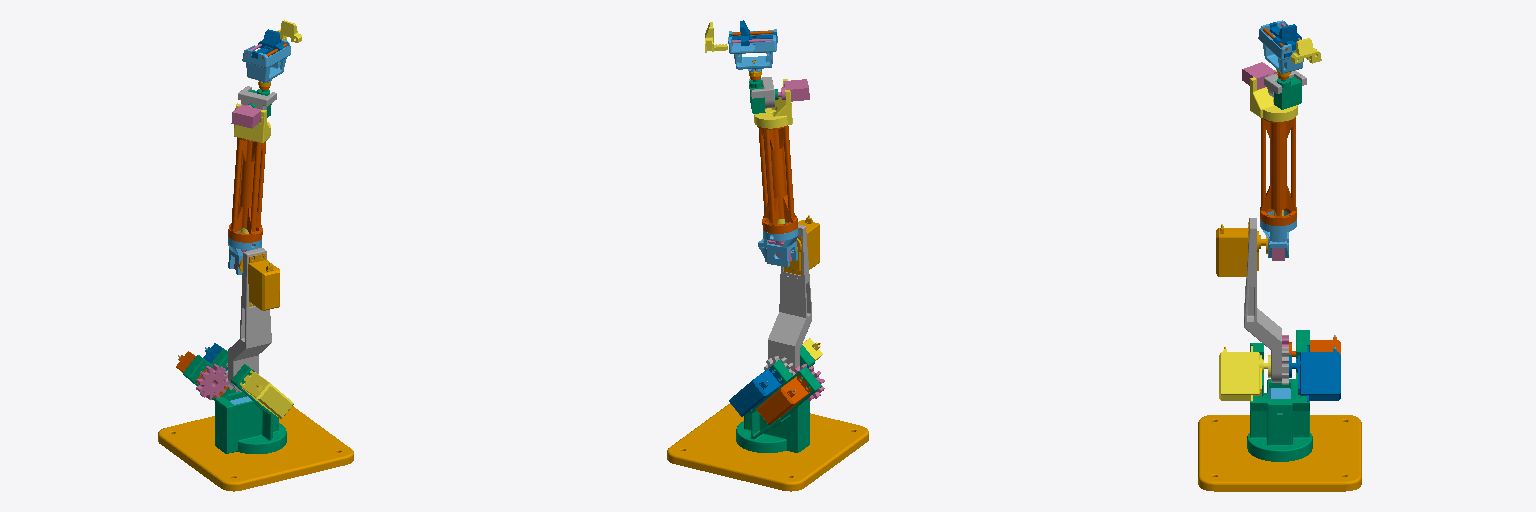
--- Facts derived from the render (not from the file) ---
Views: 3 orthographic renders of the robot side by side, from view 1: azimuth 30°, elevation 25°; view 2: azimuth 150°, elevation 25°; view 3: azimuth 270°, elevation 25°.
Robot: ArmAssembly — 31 links, 30 joints (6 revolute, 1 continuous, 2 prismatic, 21 fixed); root link base_link; default pose: joints at zero except 2 at the middle of their limits (ARM.1_Slider 17 = -0.0255, ARM.1_Slider 18 = -0.023).
Visible links, largest first — view 1: base_link, ARM.1joint_one_body1, ARM.1assembly_21joint_three_body1, ARM.1joint_two_body1, ARM.1mg996r1, ARM.1mg996r4, ARM.1gripper_body1, ARM.1DEFAULT_201, ARM.1assembly_21joint_four_body1, ARM.1small_servo_base3; view 2: base_link, ARM.1joint_one_body1, ARM.1joint_two_body1, ARM.1assembly_21joint_three_body1, ARM.1mg996r5, ARM.1mg996r2, ARM.1gripper_body1, ARM.1assembly_21joint_three_coupler1, ARM.1mg996r1, ARM.1assembly_21joint_four_body1; view 3: base_link, ARM.1joint_one_body1, ARM.1assembly_21joint_three_body1, ARM.1joint_two_body1, ARM.1mg996r4, ARM.1mg996r5, ARM.1mg996r1, ARM.1assembly_21joint_four_body1, ARM.1gripper_body1, ARM.1assembly_21joint_three_coupler1, ARM.1small_servo_base2.
Boxes of the visible links, x1=… form: base_link: x1=158, y1=406, x2=353, y2=491; ARM.1joint_one_body1: x1=183, y1=348, x2=286, y2=453; ARM.1assembly_21joint_three_body1: x1=228, y1=137, x2=265, y2=242; ARM.1joint_two_body1: x1=224, y1=248, x2=271, y2=392; ARM.1mg996r1: x1=239, y1=253, x2=279, y2=310; ARM.1mg996r4: x1=240, y1=370, x2=293, y2=418; ARM.1gripper_body1: x1=242, y1=40, x2=290, y2=82; ARM.1DEFAULT_201: x1=196, y1=364, x2=228, y2=399; ARM.1assembly_21joint_four_body1: x1=234, y1=103, x2=270, y2=233; ARM.1small_servo_base3: x1=231, y1=105, x2=260, y2=128; base_link: x1=667, y1=404, x2=868, y2=491; ARM.1joint_one_body1: x1=736, y1=345, x2=821, y2=452; ARM.1joint_two_body1: x1=764, y1=224, x2=811, y2=387; ARM.1assembly_21joint_three_body1: x1=757, y1=125, x2=797, y2=233; ARM.1mg996r5: x1=729, y1=366, x2=783, y2=416; ARM.1mg996r2: x1=756, y1=375, x2=811, y2=424; ARM.1gripper_body1: x1=728, y1=29, x2=777, y2=72; ARM.1assembly_21joint_three_coupler1: x1=758, y1=222, x2=798, y2=266; ARM.1mg996r1: x1=784, y1=217, x2=819, y2=275; ARM.1assembly_21joint_four_body1: x1=754, y1=79, x2=792, y2=224; base_link: x1=1198, y1=415, x2=1361, y2=491; ARM.1joint_one_body1: x1=1247, y1=330, x2=1312, y2=461; ARM.1assembly_21joint_three_body1: x1=1260, y1=117, x2=1296, y2=225; ARM.1joint_two_body1: x1=1244, y1=218, x2=1288, y2=384; ARM.1mg996r4: x1=1219, y1=346, x2=1270, y2=401; ARM.1mg996r5: x1=1289, y1=346, x2=1340, y2=401; ARM.1mg996r1: x1=1216, y1=222, x2=1267, y2=276; ARM.1assembly_21joint_four_body1: x1=1250, y1=70, x2=1297, y2=215; ARM.1gripper_body1: x1=1258, y1=20, x2=1303, y2=73; ARM.1assembly_21joint_three_coupler1: x1=1260, y1=211, x2=1296, y2=257; ARM.1small_servo_base2: x1=1274, y1=77, x2=1301, y2=109.
Bounding box of the posed robot: 0.15 × 0.15 × 0.4481 m (x, y, z).
31 mesh visuals loaded from 31 distinct referenced files (31 binary STL).

URDF robot description (ArmAssembly):
<?xml version="1.0" ?>
<robot name="ArmAssembly">

<material name="silver">
  <color rgba="0.700 0.700 0.700 1.000"/>
</material>

<link name="base_link">
  <inertial>
    <origin xyz="0.0 0.0 0.0" rpy="0 0 0"/>
    <mass value="0.0"/>
    <inertia ixx="0.0" iyy="0.0" izz="0.0" ixy="0.0" iyz="0.0" ixz="0.0"/>
  </inertial>
  <visual>
    <origin xyz="0 0 0" rpy="0 0 0"/>
    <geometry>
      <mesh filename="meshes/base_link.stl" scale="0.001 0.001 0.001"/>
    </geometry>
    <material name="silver"/>
    <material/>
  </visual>
  <collision>
    <origin xyz="0 0 0" rpy="0 0 0"/>
    <geometry>
      <mesh filename="meshes/base_link.stl" scale="0.001 0.001 0.001"/>
    </geometry>
  </collision>
</link>

<link name="ARM.1base_servo1">
  <inertial>
    <origin xyz="-9e-06 -9e-06 -0.009" rpy="0 0 0"/>
    <mass value="0.0"/>
    <inertia ixx="0.0" iyy="0.0" izz="0.0" ixy="0.0" iyz="0.0" ixz="0.0"/>
  </inertial>
  <visual>
    <origin xyz="-9e-06 -9e-06 -0.009" rpy="0 0 0"/>
    <geometry>
      <mesh filename="meshes/ARM.1base_servo1.stl" scale="0.001 0.001 0.001"/>
    </geometry>
    <material name="silver"/>
    <material/>
  </visual>
  <collision>
    <origin xyz="-9e-06 -9e-06 -0.009" rpy="0 0 0"/>
    <geometry>
      <mesh filename="meshes/ARM.1base_servo1.stl" scale="0.001 0.001 0.001"/>
    </geometry>
  </collision>
</link>

<link name="ARM.1joint_one_body1">
  <inertial>
    <origin xyz="0.034141 -9e-06 -0.0276" rpy="0 0 0"/>
    <mass value="0.0"/>
    <inertia ixx="0.0" iyy="0.0" izz="0.0" ixy="0.0" iyz="0.0" ixz="0.0"/>
  </inertial>
  <visual>
    <origin xyz="0.034141 -9e-06 -0.0276" rpy="0 0 0"/>
    <geometry>
      <mesh filename="meshes/ARM.1joint_one_body1.stl" scale="0.001 0.001 0.001"/>
    </geometry>
    <material name="silver"/>
    <material/>
  </visual>
  <collision>
    <origin xyz="0.034141 -9e-06 -0.0276" rpy="0 0 0"/>
    <geometry>
      <mesh filename="meshes/ARM.1joint_one_body1.stl" scale="0.001 0.001 0.001"/>
    </geometry>
  </collision>
</link>

<link name="ARM.1mg996r4">
  <inertial>
    <origin xyz="0.031872 0.024582 -0.133674" rpy="0 0 0"/>
    <mass value="0.0"/>
    <inertia ixx="0.0" iyy="0.0" izz="0.0" ixy="0.0" iyz="0.0" ixz="0.0"/>
  </inertial>
  <visual>
    <origin xyz="0.031872 0.024582 -0.133674" rpy="0 0 0"/>
    <geometry>
      <mesh filename="meshes/ARM.1mg996r4.stl" scale="0.001 0.001 0.001"/>
    </geometry>
    <material name="silver"/>
    <material/>
  </visual>
  <collision>
    <origin xyz="0.031872 0.024582 -0.133674" rpy="0 0 0"/>
    <geometry>
      <mesh filename="meshes/ARM.1mg996r4.stl" scale="0.001 0.001 0.001"/>
    </geometry>
  </collision>
</link>

<link name="ARM.1mg996r5">
  <inertial>
    <origin xyz="0.031872 -0.024618 -0.133674" rpy="0 0 0"/>
    <mass value="0.0"/>
    <inertia ixx="0.0" iyy="0.0" izz="0.0" ixy="0.0" iyz="0.0" ixz="0.0"/>
  </inertial>
  <visual>
    <origin xyz="0.031872 -0.024618 -0.133674" rpy="0 0 0"/>
    <geometry>
      <mesh filename="meshes/ARM.1mg996r5.stl" scale="0.001 0.001 0.001"/>
    </geometry>
    <material name="silver"/>
    <material/>
  </visual>
  <collision>
    <origin xyz="0.031872 -0.024618 -0.133674" rpy="0 0 0"/>
    <geometry>
      <mesh filename="meshes/ARM.1mg996r5.stl" scale="0.001 0.001 0.001"/>
    </geometry>
  </collision>
</link>

<link name="ARM.1mg996r2">
  <inertial>
    <origin xyz="0.070257 -0.024618 -0.124589" rpy="0 0 0"/>
    <mass value="0.0"/>
    <inertia ixx="0.0" iyy="0.0" izz="0.0" ixy="0.0" iyz="0.0" ixz="0.0"/>
  </inertial>
  <visual>
    <origin xyz="0.070257 -0.024618 -0.124589" rpy="0 0 0"/>
    <geometry>
      <mesh filename="meshes/ARM.1mg996r2.stl" scale="0.001 0.001 0.001"/>
    </geometry>
    <material name="silver"/>
    <material/>
  </visual>
  <collision>
    <origin xyz="0.070257 -0.024618 -0.124589" rpy="0 0 0"/>
    <geometry>
      <mesh filename="meshes/ARM.1mg996r2.stl" scale="0.001 0.001 0.001"/>
    </geometry>
  </collision>
</link>

<link name="ARM.1DEFAULT_201">
  <inertial>
    <origin xyz="0.057598 0.154855 -0.078756" rpy="0 0 0"/>
    <mass value="0.0"/>
    <inertia ixx="0.0" iyy="0.0" izz="0.0" ixy="0.0" iyz="0.0" ixz="0.0"/>
  </inertial>
  <visual>
    <origin xyz="0.057598 0.154855 -0.078756" rpy="0 0 0"/>
    <geometry>
      <mesh filename="meshes/ARM.1DEFAULT_201.stl" scale="0.001 0.001 0.001"/>
    </geometry>
    <material name="silver"/>
    <material/>
  </visual>
  <collision>
    <origin xyz="0.057598 0.154855 -0.078756" rpy="0 0 0"/>
    <geometry>
      <mesh filename="meshes/ARM.1DEFAULT_201.stl" scale="0.001 0.001 0.001"/>
    </geometry>
  </collision>
</link>

<link name="ARM.1joint_two_body1">
  <inertial>
    <origin xyz="0.027079 0.154855 -0.080525" rpy="0 0 0"/>
    <mass value="0.0"/>
    <inertia ixx="0.0" iyy="0.0" izz="0.0" ixy="0.0" iyz="0.0" ixz="0.0"/>
  </inertial>
  <visual>
    <origin xyz="0.027079 0.154855 -0.080525" rpy="0 0 0"/>
    <geometry>
      <mesh filename="meshes/ARM.1joint_two_body1.stl" scale="0.001 0.001 0.001"/>
    </geometry>
    <material name="silver"/>
    <material/>
  </visual>
  <collision>
    <origin xyz="0.027079 0.154855 -0.080525" rpy="0 0 0"/>
    <geometry>
      <mesh filename="meshes/ARM.1joint_two_body1.stl" scale="0.001 0.001 0.001"/>
    </geometry>
  </collision>
</link>

<link name="ARM.1mg996r1">
  <inertial>
    <origin xyz="0.009864 0.027191 -0.224361" rpy="0 0 0"/>
    <mass value="0.0"/>
    <inertia ixx="0.0" iyy="0.0" izz="0.0" ixy="0.0" iyz="0.0" ixz="0.0"/>
  </inertial>
  <visual>
    <origin xyz="0.009864 0.027191 -0.224361" rpy="0 0 0"/>
    <geometry>
      <mesh filename="meshes/ARM.1mg996r1.stl" scale="0.001 0.001 0.001"/>
    </geometry>
    <material name="silver"/>
    <material/>
  </visual>
  <collision>
    <origin xyz="0.009864 0.027191 -0.224361" rpy="0 0 0"/>
    <geometry>
      <mesh filename="meshes/ARM.1mg996r1.stl" scale="0.001 0.001 0.001"/>
    </geometry>
  </collision>
</link>

<link name="ARM.1assembly_21joint_three_coupler1">
  <inertial>
    <origin xyz="0.015008 0.010991 -0.210664" rpy="0 0 0"/>
    <mass value="0.0"/>
    <inertia ixx="0.0" iyy="0.0" izz="0.0" ixy="0.0" iyz="0.0" ixz="0.0"/>
  </inertial>
  <visual>
    <origin xyz="0.015008 0.010991 -0.210664" rpy="0 0 0"/>
    <geometry>
      <mesh filename="meshes/ARM.1assembly_21joint_three_coupler1.stl" scale="0.001 0.001 0.001"/>
    </geometry>
    <material name="silver"/>
    <material/>
  </visual>
  <collision>
    <origin xyz="0.015008 0.010991 -0.210664" rpy="0 0 0"/>
    <geometry>
      <mesh filename="meshes/ARM.1assembly_21joint_three_coupler1.stl" scale="0.001 0.001 0.001"/>
    </geometry>
  </collision>
</link>

<link name="ARM.1coupler3">
  <inertial>
    <origin xyz="-0.294455 -0.190175 -0.349438" rpy="0 0 0"/>
    <mass value="0.0"/>
    <inertia ixx="0.0" iyy="0.0" izz="0.0" ixy="0.0" iyz="0.0" ixz="0.0"/>
  </inertial>
  <visual>
    <origin xyz="-0.294455 -0.190175 -0.349438" rpy="0 0 0"/>
    <geometry>
      <mesh filename="meshes/ARM.1coupler3.stl" scale="0.001 0.001 0.001"/>
    </geometry>
    <material name="silver"/>
    <material/>
  </visual>
  <collision>
    <origin xyz="-0.294455 -0.190175 -0.349438" rpy="0 0 0"/>
    <geometry>
      <mesh filename="meshes/ARM.1coupler3.stl" scale="0.001 0.001 0.001"/>
    </geometry>
  </collision>
</link>

<link name="ARM.1DEFAULT_81">
  <inertial>
    <origin xyz="0.001009 0.01576 -0.434339" rpy="0 0 0"/>
    <mass value="0.0"/>
    <inertia ixx="0.0" iyy="0.0" izz="0.0" ixy="0.0" iyz="0.0" ixz="0.0"/>
  </inertial>
  <visual>
    <origin xyz="0.001009 0.01576 -0.434339" rpy="0 0 0"/>
    <geometry>
      <mesh filename="meshes/ARM.1DEFAULT_81.stl" scale="0.001 0.001 0.001"/>
    </geometry>
    <material name="silver"/>
    <material/>
  </visual>
  <collision>
    <origin xyz="0.001009 0.01576 -0.434339" rpy="0 0 0"/>
    <geometry>
      <mesh filename="meshes/ARM.1DEFAULT_81.stl" scale="0.001 0.001 0.001"/>
    </geometry>
  </collision>
</link>

<link name="ARM.1DEFAULT_251">
  <inertial>
    <origin xyz="0.009964 -0.000985 -0.434997" rpy="0 0 0"/>
    <mass value="0.0"/>
    <inertia ixx="0.0" iyy="0.0" izz="0.0" ixy="0.0" iyz="0.0" ixz="0.0"/>
  </inertial>
  <visual>
    <origin xyz="0.009964 -0.000985 -0.434997" rpy="0 0 0"/>
    <geometry>
      <mesh filename="meshes/ARM.1DEFAULT_251.stl" scale="0.001 0.001 0.001"/>
    </geometry>
    <material name="silver"/>
    <material/>
  </visual>
  <collision>
    <origin xyz="0.009964 -0.000985 -0.434997" rpy="0 0 0"/>
    <geometry>
      <mesh filename="meshes/ARM.1DEFAULT_251.stl" scale="0.001 0.001 0.001"/>
    </geometry>
  </collision>
</link>

<link name="ARM.1coupler2">
  <inertial>
    <origin xyz="-0.011594 -0.003481 -0.390498" rpy="0 0 0"/>
    <mass value="0.0"/>
    <inertia ixx="0.0" iyy="0.0" izz="0.0" ixy="0.0" iyz="0.0" ixz="0.0"/>
  </inertial>
  <visual>
    <origin xyz="-0.011594 -0.003481 -0.390498" rpy="0 0 0"/>
    <geometry>
      <mesh filename="meshes/ARM.1coupler2.stl" scale="0.001 0.001 0.001"/>
    </geometry>
    <material name="silver"/>
    <material/>
  </visual>
  <collision>
    <origin xyz="-0.011594 -0.003481 -0.390498" rpy="0 0 0"/>
    <geometry>
      <mesh filename="meshes/ARM.1coupler2.stl" scale="0.001 0.001 0.001"/>
    </geometry>
  </collision>
</link>

<link name="ARM.1small_servo_base3">
  <inertial>
    <origin xyz="0.028672 -0.019295 0.013639" rpy="0 0 0"/>
    <mass value="0.0"/>
    <inertia ixx="0.0" iyy="0.0" izz="0.0" ixy="0.0" iyz="0.0" ixz="0.0"/>
  </inertial>
  <visual>
    <origin xyz="0.028672 -0.019295 0.013639" rpy="0 0 0"/>
    <geometry>
      <mesh filename="meshes/ARM.1small_servo_base3.stl" scale="0.001 0.001 0.001"/>
    </geometry>
    <material name="silver"/>
    <material/>
  </visual>
  <collision>
    <origin xyz="0.028672 -0.019295 0.013639" rpy="0 0 0"/>
    <geometry>
      <mesh filename="meshes/ARM.1small_servo_base3.stl" scale="0.001 0.001 0.001"/>
    </geometry>
  </collision>
</link>

<link name="ARM.1joint_five_body1">
  <inertial>
    <origin xyz="-0.180689 -0.127759 -0.374982" rpy="0 0 0"/>
    <mass value="0.0"/>
    <inertia ixx="0.0" iyy="0.0" izz="0.0" ixy="0.0" iyz="0.0" ixz="0.0"/>
  </inertial>
  <visual>
    <origin xyz="-0.180689 -0.127759 -0.374982" rpy="0 0 0"/>
    <geometry>
      <mesh filename="meshes/ARM.1joint_five_body1.stl" scale="0.001 0.001 0.001"/>
    </geometry>
    <material name="silver"/>
    <material/>
  </visual>
  <collision>
    <origin xyz="-0.180689 -0.127759 -0.374982" rpy="0 0 0"/>
    <geometry>
      <mesh filename="meshes/ARM.1joint_five_body1.stl" scale="0.001 0.001 0.001"/>
    </geometry>
  </collision>
</link>

<link name="ARM.1gripper_coupler1">
  <inertial>
    <origin xyz="-0.036041 0.007949 -0.619692" rpy="0 0 0"/>
    <mass value="0.0"/>
    <inertia ixx="0.0" iyy="0.0" izz="0.0" ixy="0.0" iyz="0.0" ixz="0.0"/>
  </inertial>
  <visual>
    <origin xyz="-0.036041 0.007949 -0.619692" rpy="0 0 0"/>
    <geometry>
      <mesh filename="meshes/ARM.1gripper_coupler1.stl" scale="0.001 0.001 0.001"/>
    </geometry>
    <material name="silver"/>
    <material/>
  </visual>
  <collision>
    <origin xyz="-0.036041 0.007949 -0.619692" rpy="0 0 0"/>
    <geometry>
      <mesh filename="meshes/ARM.1gripper_coupler1.stl" scale="0.001 0.001 0.001"/>
    </geometry>
  </collision>
</link>

<link name="ARM.1gripper_body1">
  <inertial>
    <origin xyz="-0.012239 -0.003481 -0.399275" rpy="0 0 0"/>
    <mass value="0.0"/>
    <inertia ixx="0.0" iyy="0.0" izz="0.0" ixy="0.0" iyz="0.0" ixz="0.0"/>
  </inertial>
  <visual>
    <origin xyz="-0.012239 -0.003481 -0.399275" rpy="0 0 0"/>
    <geometry>
      <mesh filename="meshes/ARM.1gripper_body1.stl" scale="0.001 0.001 0.001"/>
    </geometry>
    <material name="silver"/>
    <material/>
  </visual>
  <collision>
    <origin xyz="-0.012239 -0.003481 -0.399275" rpy="0 0 0"/>
    <geometry>
      <mesh filename="meshes/ARM.1gripper_body1.stl" scale="0.001 0.001 0.001"/>
    </geometry>
  </collision>
</link>

<link name="ARM.1small_servo_base2">
  <inertial>
    <origin xyz="0.304509 0.209602 -0.39283" rpy="0 0 0"/>
    <mass value="0.0"/>
    <inertia ixx="0.0" iyy="0.0" izz="0.0" ixy="0.0" iyz="0.0" ixz="0.0"/>
  </inertial>
  <visual>
    <origin xyz="0.304509 0.209602 -0.39283" rpy="0 0 0"/>
    <geometry>
      <mesh filename="meshes/ARM.1small_servo_base2.stl" scale="0.001 0.001 0.001"/>
    </geometry>
    <material name="silver"/>
    <material/>
  </visual>
  <collision>
    <origin xyz="0.304509 0.209602 -0.39283" rpy="0 0 0"/>
    <geometry>
      <mesh filename="meshes/ARM.1small_servo_base2.stl" scale="0.001 0.001 0.001"/>
    </geometry>
  </collision>
</link>

<link name="ARM.1mg996r1DEFAULT_5_21">
  <inertial>
    <origin xyz="0.014848 0.053091 -0.225913" rpy="0 0 0"/>
    <mass value="0.0"/>
    <inertia ixx="0.0" iyy="0.0" izz="0.0" ixy="0.0" iyz="0.0" ixz="0.0"/>
  </inertial>
  <visual>
    <origin xyz="0.014848 0.053091 -0.225913" rpy="0 0 0"/>
    <geometry>
      <mesh filename="meshes/ARM.1mg996r1DEFAULT_5_21.stl" scale="0.001 0.001 0.001"/>
    </geometry>
    <material name="silver"/>
    <material/>
  </visual>
  <collision>
    <origin xyz="0.014848 0.053091 -0.225913" rpy="0 0 0"/>
    <geometry>
      <mesh filename="meshes/ARM.1mg996r1DEFAULT_5_21.stl" scale="0.001 0.001 0.001"/>
    </geometry>
  </collision>
</link>

<link name="ARM.1gripper_body1DEFAULT1">
  <inertial>
    <origin xyz="0.005706 0.007387 -0.431676" rpy="0 0 0"/>
    <mass value="0.0"/>
    <inertia ixx="0.0" iyy="0.0" izz="0.0" ixy="0.0" iyz="0.0" ixz="0.0"/>
  </inertial>
  <visual>
    <origin xyz="0.005706 0.007387 -0.431676" rpy="0 0 0"/>
    <geometry>
      <mesh filename="meshes/ARM.1gripper_body1DEFAULT1.stl" scale="0.001 0.001 0.001"/>
    </geometry>
    <material name="silver"/>
    <material/>
  </visual>
  <collision>
    <origin xyz="0.005706 0.007387 -0.431676" rpy="0 0 0"/>
    <geometry>
      <mesh filename="meshes/ARM.1gripper_body1DEFAULT1.stl" scale="0.001 0.001 0.001"/>
    </geometry>
  </collision>
</link>

<link name="ARM.1gripper_body1bar11">
  <inertial>
    <origin xyz="0.054643 0.011907 0.013304" rpy="0 0 0"/>
    <mass value="0.0"/>
    <inertia ixx="0.0" iyy="0.0" izz="0.0" ixy="0.0" iyz="0.0" ixz="0.0"/>
  </inertial>
  <visual>
    <origin xyz="0.054643 0.011907 0.013304" rpy="0 0 0"/>
    <geometry>
      <mesh filename="meshes/ARM.1gripper_body1bar11.stl" scale="0.001 0.001 0.001"/>
    </geometry>
    <material name="silver"/>
    <material/>
  </visual>
  <collision>
    <origin xyz="0.054643 0.011907 0.013304" rpy="0 0 0"/>
    <geometry>
      <mesh filename="meshes/ARM.1gripper_body1bar11.stl" scale="0.001 0.001 0.001"/>
    </geometry>
  </collision>
</link>

<link name="ARM.1gripper_body1bar21">
  <inertial>
    <origin xyz="0.054712 -0.007082 0.013959" rpy="0 0 0"/>
    <mass value="0.0"/>
    <inertia ixx="0.0" iyy="0.0" izz="0.0" ixy="0.0" iyz="0.0" ixz="0.0"/>
  </inertial>
  <visual>
    <origin xyz="0.054712 -0.007082 0.013959" rpy="0 0 0"/>
    <geometry>
      <mesh filename="meshes/ARM.1gripper_body1bar21.stl" scale="0.001 0.001 0.001"/>
    </geometry>
    <material name="silver"/>
    <material/>
  </visual>
  <collision>
    <origin xyz="0.054712 -0.007082 0.013959" rpy="0 0 0"/>
    <geometry>
      <mesh filename="meshes/ARM.1gripper_body1bar21.stl" scale="0.001 0.001 0.001"/>
    </geometry>
  </collision>
</link>

<link name="ARM.1mg996r2DEFAULT_5_21">
  <inertial>
    <origin xyz="0.014848 0.053091 -0.225913" rpy="0 0 0"/>
    <mass value="0.0"/>
    <inertia ixx="0.0" iyy="0.0" izz="0.0" ixy="0.0" iyz="0.0" ixz="0.0"/>
  </inertial>
  <visual>
    <origin xyz="0.014848 0.053091 -0.225913" rpy="0 0 0"/>
    <geometry>
      <mesh filename="meshes/ARM.1mg996r2DEFAULT_5_21.stl" scale="0.001 0.001 0.001"/>
    </geometry>
    <material name="silver"/>
    <material/>
  </visual>
  <collision>
    <origin xyz="0.014848 0.053091 -0.225913" rpy="0 0 0"/>
    <geometry>
      <mesh filename="meshes/ARM.1mg996r2DEFAULT_5_21.stl" scale="0.001 0.001 0.001"/>
    </geometry>
  </collision>
</link>

<link name="ARM.1mg996r4DEFAULT_5_21">
  <inertial>
    <origin xyz="0.014848 0.053091 -0.225913" rpy="0 0 0"/>
    <mass value="0.0"/>
    <inertia ixx="0.0" iyy="0.0" izz="0.0" ixy="0.0" iyz="0.0" ixz="0.0"/>
  </inertial>
  <visual>
    <origin xyz="0.014848 0.053091 -0.225913" rpy="0 0 0"/>
    <geometry>
      <mesh filename="meshes/ARM.1mg996r4DEFAULT_5_21.stl" scale="0.001 0.001 0.001"/>
    </geometry>
    <material name="silver"/>
    <material/>
  </visual>
  <collision>
    <origin xyz="0.014848 0.053091 -0.225913" rpy="0 0 0"/>
    <geometry>
      <mesh filename="meshes/ARM.1mg996r4DEFAULT_5_21.stl" scale="0.001 0.001 0.001"/>
    </geometry>
  </collision>
</link>

<link name="ARM.1mg996r5DEFAULT_5_21">
  <inertial>
    <origin xyz="0.014848 0.053091 -0.225913" rpy="0 0 0"/>
    <mass value="0.0"/>
    <inertia ixx="0.0" iyy="0.0" izz="0.0" ixy="0.0" iyz="0.0" ixz="0.0"/>
  </inertial>
  <visual>
    <origin xyz="0.014848 0.053091 -0.225913" rpy="0 0 0"/>
    <geometry>
      <mesh filename="meshes/ARM.1mg996r5DEFAULT_5_21.stl" scale="0.001 0.001 0.001"/>
    </geometry>
    <material name="silver"/>
    <material/>
  </visual>
  <collision>
    <origin xyz="0.014848 0.053091 -0.225913" rpy="0 0 0"/>
    <geometry>
      <mesh filename="meshes/ARM.1mg996r5DEFAULT_5_21.stl" scale="0.001 0.001 0.001"/>
    </geometry>
  </collision>
</link>

<link name="ARM.1assembly_21coupler1">
  <inertial>
    <origin xyz="-0.029402 -0.00219 -0.588775" rpy="0 0 0"/>
    <mass value="0.0"/>
    <inertia ixx="0.0" iyy="0.0" izz="0.0" ixy="0.0" iyz="0.0" ixz="0.0"/>
  </inertial>
  <visual>
    <origin xyz="-0.029402 -0.00219 -0.588775" rpy="0 0 0"/>
    <geometry>
      <mesh filename="meshes/ARM.1assembly_21coupler1.stl" scale="0.001 0.001 0.001"/>
    </geometry>
    <material name="silver"/>
    <material/>
  </visual>
  <collision>
    <origin xyz="-0.029402 -0.00219 -0.588775" rpy="0 0 0"/>
    <geometry>
      <mesh filename="meshes/ARM.1assembly_21coupler1.stl" scale="0.001 0.001 0.001"/>
    </geometry>
  </collision>
</link>

<link name="ARM.1assembly_21joint_four_body1">
  <inertial>
    <origin xyz="0.013383 0.001291 -0.234158" rpy="0 0 0"/>
    <mass value="0.0"/>
    <inertia ixx="0.0" iyy="0.0" izz="0.0" ixy="0.0" iyz="0.0" ixz="0.0"/>
  </inertial>
  <visual>
    <origin xyz="0.013383 0.001291 -0.234158" rpy="0 0 0"/>
    <geometry>
      <mesh filename="meshes/ARM.1assembly_21joint_four_body1.stl" scale="0.001 0.001 0.001"/>
    </geometry>
    <material name="silver"/>
    <material/>
  </visual>
  <collision>
    <origin xyz="0.013383 0.001291 -0.234158" rpy="0 0 0"/>
    <geometry>
      <mesh filename="meshes/ARM.1assembly_21joint_four_body1.stl" scale="0.001 0.001 0.001"/>
    </geometry>
  </collision>
</link>

<link name="ARM.1assembly_21joint_four_bearing1">
  <inertial>
    <origin xyz="0.004651 0.001291 -0.353038" rpy="0 0 0"/>
    <mass value="0.0"/>
    <inertia ixx="0.0" iyy="0.0" izz="0.0" ixy="0.0" iyz="0.0" ixz="0.0"/>
  </inertial>
  <visual>
    <origin xyz="0.004651 0.001291 -0.353038" rpy="0 0 0"/>
    <geometry>
      <mesh filename="meshes/ARM.1assembly_21joint_four_bearing1.stl" scale="0.001 0.001 0.001"/>
    </geometry>
    <material name="silver"/>
    <material/>
  </visual>
  <collision>
    <origin xyz="0.004651 0.001291 -0.353038" rpy="0 0 0"/>
    <geometry>
      <mesh filename="meshes/ARM.1assembly_21joint_four_bearing1.stl" scale="0.001 0.001 0.001"/>
    </geometry>
  </collision>
</link>

<link name="ARM.1assembly_21joint_three_body1">
  <inertial>
    <origin xyz="0.02367 -0.009333 -0.237771" rpy="0 0 0"/>
    <mass value="0.0"/>
    <inertia ixx="0.0" iyy="0.0" izz="0.0" ixy="0.0" iyz="0.0" ixz="0.0"/>
  </inertial>
  <visual>
    <origin xyz="0.02367 -0.009333 -0.237771" rpy="0 0 0"/>
    <geometry>
      <mesh filename="meshes/ARM.1assembly_21joint_three_body1.stl" scale="0.001 0.001 0.001"/>
    </geometry>
    <material name="silver"/>
    <material/>
  </visual>
  <collision>
    <origin xyz="0.02367 -0.009333 -0.237771" rpy="0 0 0"/>
    <geometry>
      <mesh filename="meshes/ARM.1assembly_21joint_three_body1.stl" scale="0.001 0.001 0.001"/>
    </geometry>
  </collision>
</link>

<link name="ARM.1assembly_21small_servo_base1">
  <inertial>
    <origin xyz="0.021383 -0.012792 -0.026372" rpy="0 0 0"/>
    <mass value="0.0"/>
    <inertia ixx="0.0" iyy="0.0" izz="0.0" ixy="0.0" iyz="0.0" ixz="0.0"/>
  </inertial>
  <visual>
    <origin xyz="0.021383 -0.012792 -0.026372" rpy="0 0 0"/>
    <geometry>
      <mesh filename="meshes/ARM.1assembly_21small_servo_base1.stl" scale="0.001 0.001 0.001"/>
    </geometry>
    <material name="silver"/>
    <material/>
  </visual>
  <collision>
    <origin xyz="0.021383 -0.012792 -0.026372" rpy="0 0 0"/>
    <geometry>
      <mesh filename="meshes/ARM.1assembly_21small_servo_base1.stl" scale="0.001 0.001 0.001"/>
    </geometry>
  </collision>
</link>

<joint name="ARM.1_Revolute 3" type="revolute">
  <origin xyz="9e-06 9e-06 0.009" rpy="0 0 0"/>
  <parent link="base_link"/>
  <child link="ARM.1base_servo1"/>
  <axis xyz="0.0 0.0 1.0"/>
  <limit upper="1.570796" lower="-1.570796" effort="100" velocity="100"/>
</joint>
<transmission name="ARM.1_Revolute 3_tran">
  <type>transmission_interface/SimpleTransmission</type>
  <joint name="ARM.1_Revolute 3">
    <hardwareInterface>PositionJointInterface</hardwareInterface>
  </joint>
  <actuator name="ARM.1_Revolute 3_actr">
    <hardwareInterface>PositionJointInterface</hardwareInterface>
    <mechanicalReduction>1</mechanicalReduction>
  </actuator>
</transmission>

<joint name="ARM.1_Rigid 4" type="fixed">
  <origin xyz="-0.03415 0.0 0.0186" rpy="0 0 0"/>
  <parent link="ARM.1base_servo1"/>
  <child link="ARM.1joint_one_body1"/>
</joint>

<joint name="ARM.1_Rigid 5" type="fixed">
  <origin xyz="0.002269 -0.024591 0.106074" rpy="0 0 0"/>
  <parent link="ARM.1joint_one_body1"/>
  <child link="ARM.1mg996r4"/>
</joint>

<joint name="ARM.1_Rigid 6" type="fixed">
  <origin xyz="0.002269 0.024609 0.106074" rpy="0 0 0"/>
  <parent link="ARM.1joint_one_body1"/>
  <child link="ARM.1mg996r5"/>
</joint>

<joint name="ARM.1_Rigid 7" type="fixed">
  <origin xyz="-0.036116 0.024609 0.096989" rpy="0 0 0"/>
  <parent link="ARM.1joint_one_body1"/>
  <child link="ARM.1mg996r2"/>
</joint>

<joint name="ARM.1_Revolute 8" type="continuous">
  <origin xyz="0.012659 -0.179473 -0.045833" rpy="0 0 0"/>
  <parent link="ARM.1mg996r2"/>
  <child link="ARM.1DEFAULT_201"/>
  <axis xyz="-0.0 -1.0 -0.0"/>
</joint>
<transmission name="ARM.1_Revolute 8_tran">
  <type>transmission_interface/SimpleTransmission</type>
  <joint name="ARM.1_Revolute 8">
    <hardwareInterface>PositionJointInterface</hardwareInterface>
  </joint>
  <actuator name="ARM.1_Revolute 8_actr">
    <hardwareInterface>PositionJointInterface</hardwareInterface>
    <mechanicalReduction>1</mechanicalReduction>
  </actuator>
</transmission>

<joint name="ARM.1_Revolute 9" type="revolute">
  <origin xyz="0.004793 -0.179473 -0.053149" rpy="0 0 0"/>
  <parent link="ARM.1mg996r5"/>
  <child link="ARM.1joint_two_body1"/>
  <axis xyz="-0.0 -1.0 -0.0"/>
  <limit upper="1.570796" lower="-1.570796" effort="100" velocity="100"/>
</joint>
<transmission name="ARM.1_Revolute 9_tran">
  <type>transmission_interface/SimpleTransmission</type>
  <joint name="ARM.1_Revolute 9">
    <hardwareInterface>PositionJointInterface</hardwareInterface>
  </joint>
  <actuator name="ARM.1_Revolute 9_actr">
    <hardwareInterface>PositionJointInterface</hardwareInterface>
    <mechanicalReduction>1</mechanicalReduction>
  </actuator>
</transmission>

<joint name="ARM.1_Rigid 10" type="fixed">
  <origin xyz="0.017215 0.127664 0.143836" rpy="0 0 0"/>
  <parent link="ARM.1joint_two_body1"/>
  <child link="ARM.1mg996r1"/>
</joint>

<joint name="ARM.1_Revolute 11" type="revolute">
  <origin xyz="-0.005144 0.0162 -0.013697" rpy="0 0 0"/>
  <parent link="ARM.1mg996r1"/>
  <child link="ARM.1assembly_21joint_three_coupler1"/>
  <axis xyz="0.0 1.0 0.0"/>
  <limit upper="0.785398" lower="-2.356194" effort="100" velocity="100"/>
</joint>
<transmission name="ARM.1_Revolute 11_tran">
  <type>transmission_interface/SimpleTransmission</type>
  <joint name="ARM.1_Revolute 11">
    <hardwareInterface>PositionJointInterface</hardwareInterface>
  </joint>
  <actuator name="ARM.1_Revolute 11_actr">
    <hardwareInterface>PositionJointInterface</hardwareInterface>
    <mechanicalReduction>1</mechanicalReduction>
  </actuator>
</transmission>

<joint name="ARM.1_Revolute 14" type="revolute">
  <origin xyz="0.323127 0.17088 0.363077" rpy="0 0 0"/>
  <parent link="ARM.1small_servo_base3"/>
  <child link="ARM.1coupler3"/>
  <axis xyz="0.81528 0.575963 -0.05988"/>
  <limit upper="3.141593" lower="0.0" effort="100" velocity="100"/>
</joint>
<transmission name="ARM.1_Revolute 14_tran">
  <type>transmission_interface/SimpleTransmission</type>
  <joint name="ARM.1_Revolute 14">
    <hardwareInterface>PositionJointInterface</hardwareInterface>
  </joint>
  <actuator name="ARM.1_Revolute 14_actr">
    <hardwareInterface>PositionJointInterface</hardwareInterface>
    <mechanicalReduction>1</mechanicalReduction>
  </actuator>
</transmission>

<joint name="ARM.1_Slider 17" type="prismatic">
  <origin xyz="0.053634 -0.003853 0.447643" rpy="0 0 0"/>
  <parent link="ARM.1gripper_body1bar11"/>
  <child link="ARM.1DEFAULT_81"/>
  <axis xyz="-0.87894 -0.472543 0.064556"/>
  <limit upper="-0.016" lower="-0.035" effort="100" velocity="100"/>
</joint>
<transmission name="ARM.1_Slider 17_tran">
  <type>transmission_interface/SimpleTransmission</type>
  <joint name="ARM.1_Slider 17">
    <hardwareInterface>PositionJointInterface</hardwareInterface>
  </joint>
  <actuator name="ARM.1_Slider 17_actr">
    <hardwareInterface>PositionJointInterface</hardwareInterface>
    <mechanicalReduction>1</mechanicalReduction>
  </actuator>
</transmission>

<joint name="ARM.1_Slider 18" type="prismatic">
  <origin xyz="0.044748 -0.006097 0.448956" rpy="0 0 0"/>
  <parent link="ARM.1gripper_body1bar21"/>
  <child link="ARM.1DEFAULT_251"/>
  <axis xyz="-0.87894 -0.472543 0.064556"/>
  <limit upper="-0.011" lower="-0.035" effort="100" velocity="100"/>
</joint>
<transmission name="ARM.1_Slider 18_tran">
  <type>transmission_interface/SimpleTransmission</type>
  <joint name="ARM.1_Slider 18">
    <hardwareInterface>PositionJointInterface</hardwareInterface>
  </joint>
  <actuator name="ARM.1_Slider 18_actr">
    <hardwareInterface>PositionJointInterface</hardwareInterface>
    <mechanicalReduction>1</mechanicalReduction>
  </actuator>
</transmission>

<joint name="ARM.1_Revolute 19" type="revolute">
  <origin xyz="0.316103 0.213083 -0.002332" rpy="0 0 0"/>
  <parent link="ARM.1small_servo_base2"/>
  <child link="ARM.1coupler2"/>
  <axis xyz="0.07325 -0.0 0.997314"/>
  <limit upper="3.141593" lower="0.0" effort="100" velocity="100"/>
</joint>
<transmission name="ARM.1_Revolute 19_tran">
  <type>transmission_interface/SimpleTransmission</type>
  <joint name="ARM.1_Revolute 19">
    <hardwareInterface>PositionJointInterface</hardwareInterface>
  </joint>
  <actuator name="ARM.1_Revolute 19_actr">
    <hardwareInterface>PositionJointInterface</hardwareInterface>
    <mechanicalReduction>1</mechanicalReduction>
  </actuator>
</transmission>

<joint name="ARM.1_Rigid 20" type="fixed">
  <origin xyz="-0.015289 0.020586 -0.247797" rpy="0 0 0"/>
  <parent link="ARM.1assembly_21joint_four_body1"/>
  <child link="ARM.1small_servo_base3"/>
</joint>

<joint name="ARM.1_Rigid 21" type="fixed">
  <origin xyz="-0.113766 -0.062416 0.025544" rpy="0 0 0"/>
  <parent link="ARM.1coupler3"/>
  <child link="ARM.1joint_five_body1"/>
</joint>

<joint name="ARM.1_Rigid 22" type="fixed">
  <origin xyz="0.024447 -0.01143 0.229194" rpy="0 0 0"/>
  <parent link="ARM.1coupler2"/>
  <child link="ARM.1gripper_coupler1"/>
</joint>

<joint name="ARM.1_Rigid 23" type="fixed">
  <origin xyz="-0.023802 0.01143 -0.220417" rpy="0 0 0"/>
  <parent link="ARM.1gripper_coupler1"/>
  <child link="ARM.1gripper_body1"/>
</joint>

<joint name="ARM.1_Rigid 24" type="fixed">
  <origin xyz="-0.485198 -0.337361 0.017848" rpy="0 0 0"/>
  <parent link="ARM.1joint_five_body1"/>
  <child link="ARM.1small_servo_base2"/>
</joint>

<joint name="ARM.1mg996r1_Rigid 2" type="fixed">
  <origin xyz="-0.004984 -0.0259 0.001552" rpy="0 0 0"/>
  <parent link="ARM.1mg996r1"/>
  <child link="ARM.1mg996r1DEFAULT_5_21"/>
</joint>

<joint name="ARM.1gripper_body1_Rigid 16" type="fixed">
  <origin xyz="-0.017945 -0.010868 0.032401" rpy="0 0 0"/>
  <parent link="ARM.1gripper_body1"/>
  <child link="ARM.1gripper_body1DEFAULT1"/>
</joint>

<joint name="ARM.1gripper_body1_Rigid 2" type="fixed">
  <origin xyz="-0.066882 -0.015388 -0.412579" rpy="0 0 0"/>
  <parent link="ARM.1gripper_body1"/>
  <child link="ARM.1gripper_body1bar11"/>
</joint>

<joint name="ARM.1gripper_body1_Rigid 3" type="fixed">
  <origin xyz="-0.066951 0.003601 -0.413234" rpy="0 0 0"/>
  <parent link="ARM.1gripper_body1"/>
  <child link="ARM.1gripper_body1bar21"/>
</joint>

<joint name="ARM.1mg996r2_Rigid 2" type="fixed">
  <origin xyz="0.055409 -0.077709 0.101324" rpy="0 0 0"/>
  <parent link="ARM.1mg996r2"/>
  <child link="ARM.1mg996r2DEFAULT_5_21"/>
</joint>

<joint name="ARM.1mg996r4_Rigid 2" type="fixed">
  <origin xyz="0.017024 -0.028509 0.092239" rpy="0 0 0"/>
  <parent link="ARM.1mg996r4"/>
  <child link="ARM.1mg996r4DEFAULT_5_21"/>
</joint>

<joint name="ARM.1mg996r5_Rigid 2" type="fixed">
  <origin xyz="0.017024 -0.077709 0.092239" rpy="0 0 0"/>
  <parent link="ARM.1mg996r5"/>
  <child link="ARM.1mg996r5DEFAULT_5_21"/>
</joint>

<joint name="ARM.1assembly_21_Rigid 5" type="fixed">
  <origin xyz="0.050785 -0.010602 0.562403" rpy="0 0 0"/>
  <parent link="ARM.1assembly_21small_servo_base1"/>
  <child link="ARM.1assembly_21coupler1"/>
</joint>

<joint name="ARM.1assembly_21_Revolute 6" type="revolute">
  <origin xyz="-0.042785 -0.003481 -0.354617" rpy="0 0 0"/>
  <parent link="ARM.1assembly_21coupler1"/>
  <child link="ARM.1assembly_21joint_four_body1"/>
  <axis xyz="0.07325 -0.0 0.997314"/>
  <limit upper="1.570796" lower="-1.570796" effort="100" velocity="100"/>
</joint>
<transmission name="ARM.1assembly_21_Revolute 6_tran">
  <type>transmission_interface/SimpleTransmission</type>
  <joint name="ARM.1assembly_21_Revolute 6">
    <hardwareInterface>PositionJointInterface</hardwareInterface>
  </joint>
  <actuator name="ARM.1assembly_21_Revolute 6_actr">
    <hardwareInterface>PositionJointInterface</hardwareInterface>
    <mechanicalReduction>1</mechanicalReduction>
  </actuator>
</transmission>

<joint name="ARM.1assembly_21_Rigid 7" type="fixed">
  <origin xyz="0.008732 0.0 0.11888" rpy="0 0 0"/>
  <parent link="ARM.1assembly_21joint_four_body1"/>
  <child link="ARM.1assembly_21joint_four_bearing1"/>
</joint>

<joint name="ARM.1assembly_21_Rigid 8" type="fixed">
  <origin xyz="-0.008662 0.020324 0.027107" rpy="0 0 0"/>
  <parent link="ARM.1assembly_21joint_three_coupler1"/>
  <child link="ARM.1assembly_21joint_three_body1"/>
</joint>

<joint name="ARM.1assembly_21_Rigid 9" type="fixed">
  <origin xyz="-0.006375 0.023783 -0.184292" rpy="0 0 0"/>
  <parent link="ARM.1assembly_21joint_three_coupler1"/>
  <child link="ARM.1assembly_21small_servo_base1"/>
</joint>

</robot>
